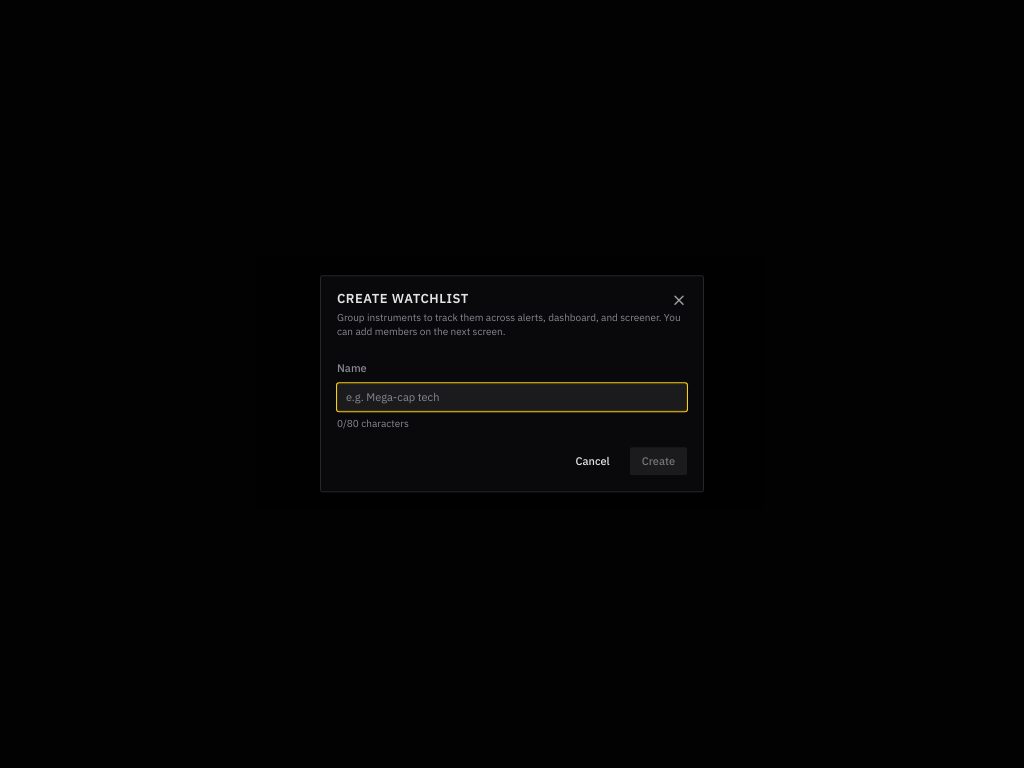
Test: CreateWatchlistDialog — server error › shows server error message inline when gateway throws
The width and height of the screenshot is (1024, 768).
Type "My List" into the field with placeholder "e.g. Mega-cap tech" at (512, 398), box [337,384,687,412]
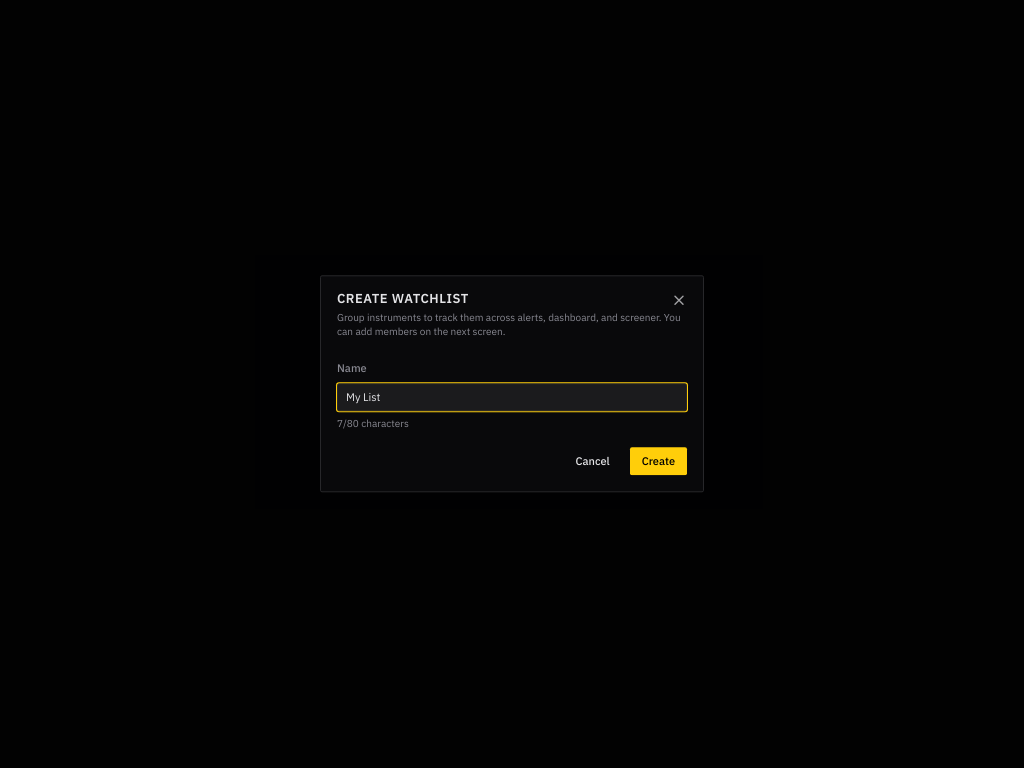
Submit the form, box [337,355,687,476]
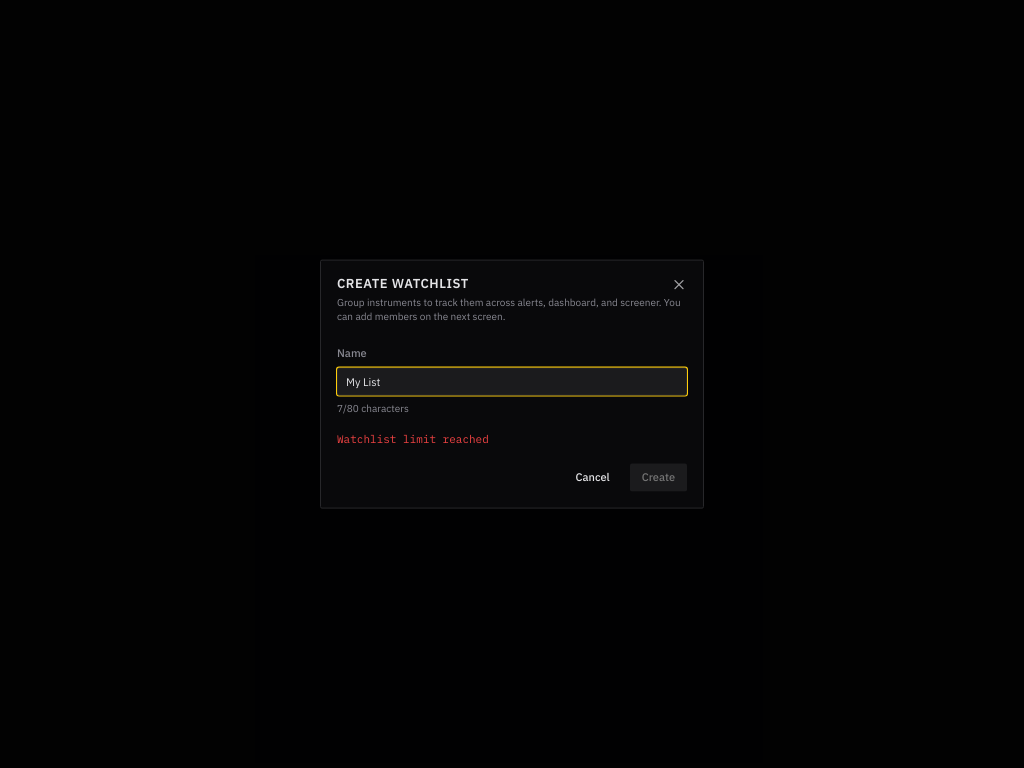
Result: the text "Watchlist limit reached" is shown at [337,432,489,446]
